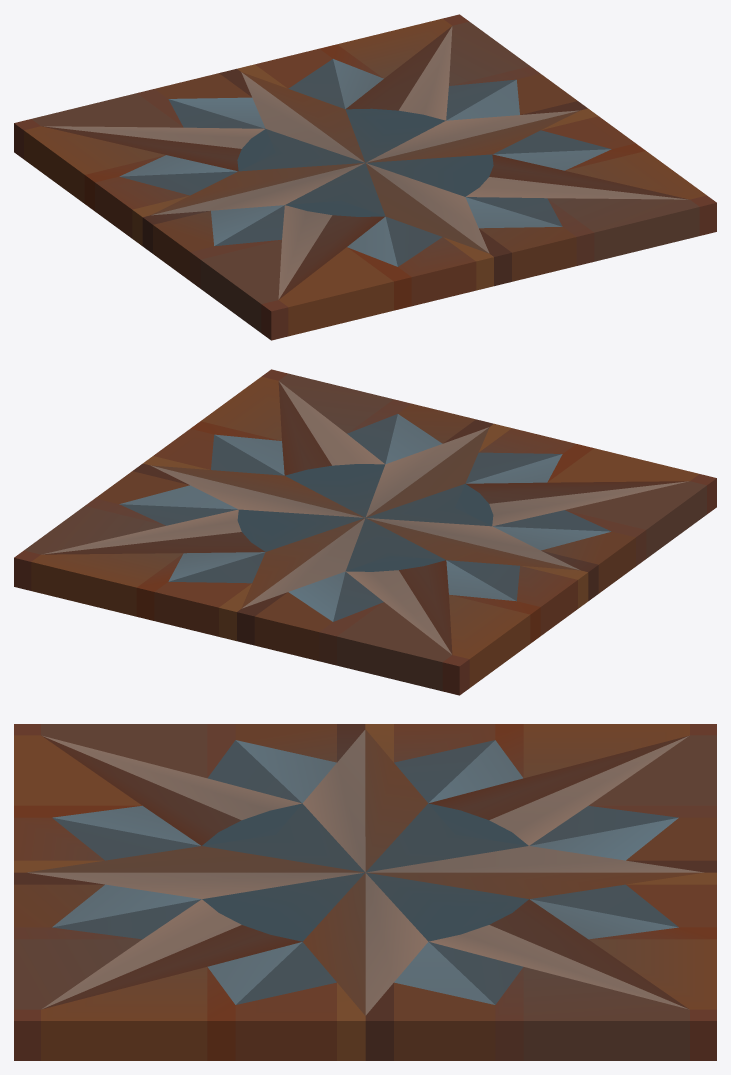
The model's file is Floor_Compass-4m.fbx.
The picture shows the model from 3 angles, top to bottom: view 1: azimuth 30°, elevation 25°; view 2: azimuth 150°, elevation 25°; view 3: azimuth 270°, elevation 25°; orthographic projection. The views are drawn at different scales.
Parts seen in each view (by area): view 1: Floor_Compass-4m; view 2: Floor_Compass-4m; view 3: Floor_Compass-4m.
Part boxes in pixels (x1=…): Floor_Compass-4m: x1=14, y1=14, x2=716, y2=340; Floor_Compass-4m: x1=14, y1=369, x2=716, y2=695; Floor_Compass-4m: x1=14, y1=724, x2=716, y2=1060.
Bounding box in the file's own units: 400 × 25 × 400.
